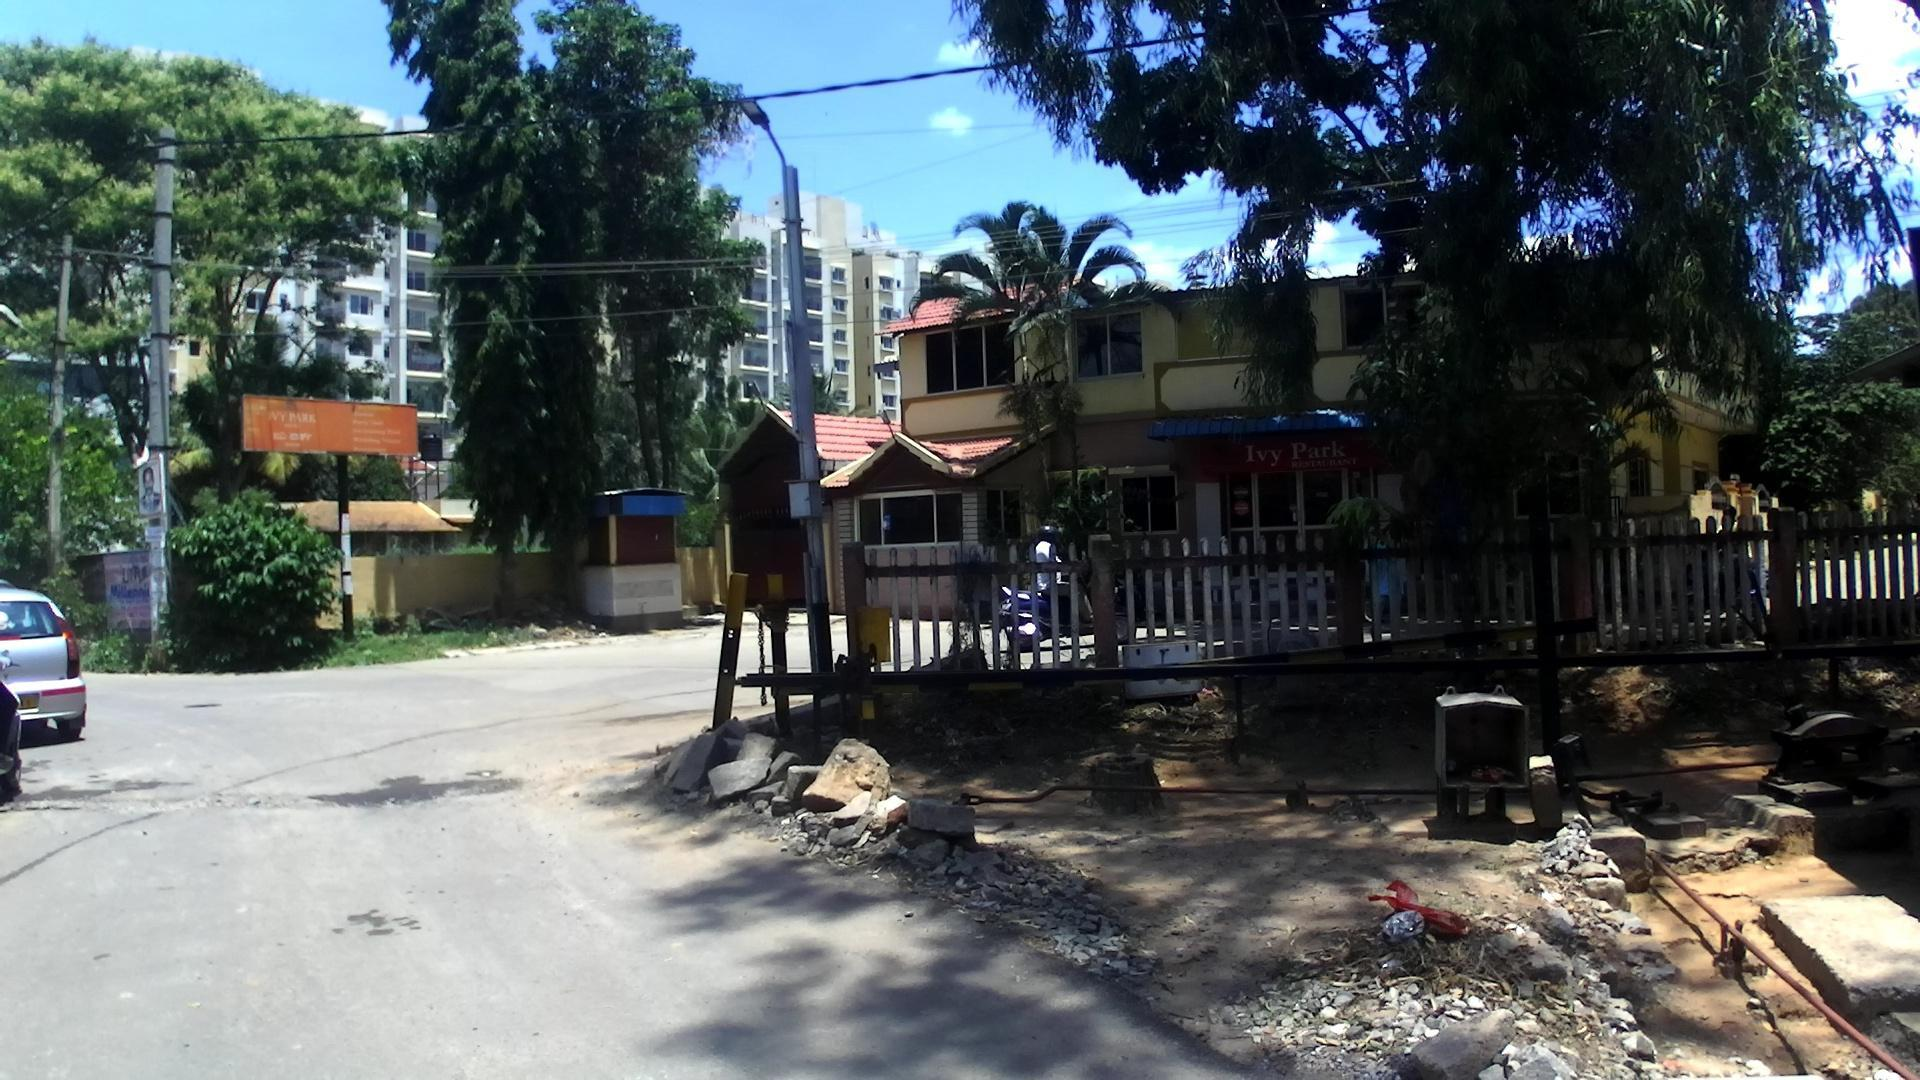off: (70, 0, 1920, 1080)
